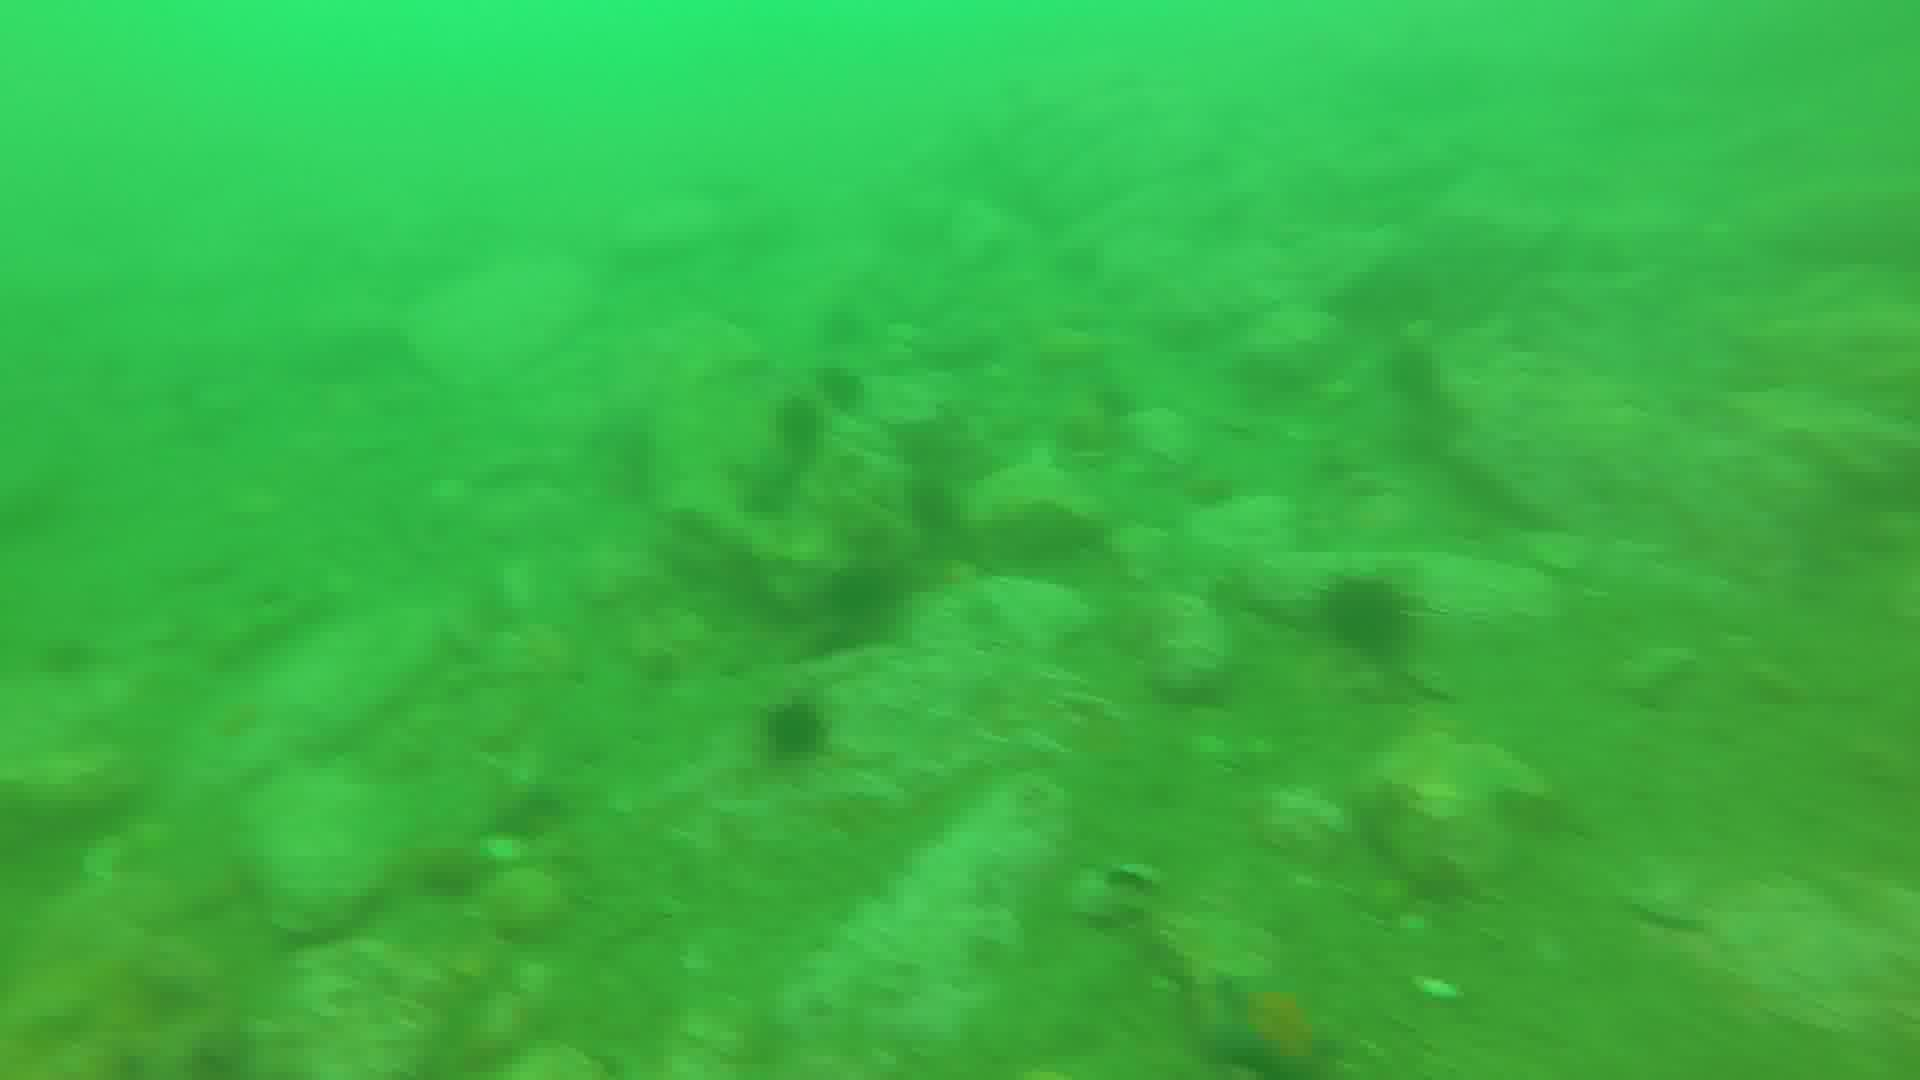echinus: (1323, 574, 1411, 651), (764, 698, 829, 752), (905, 475, 961, 531), (819, 363, 865, 419), (783, 396, 829, 451)
starfish: (1203, 969, 1345, 1080)
